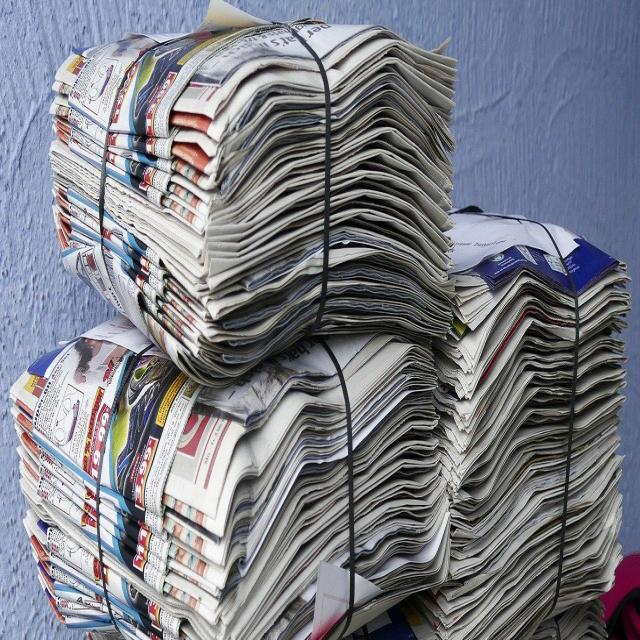Paper -Biodegradable-: (11, 18, 451, 640), (403, 202, 624, 640)
